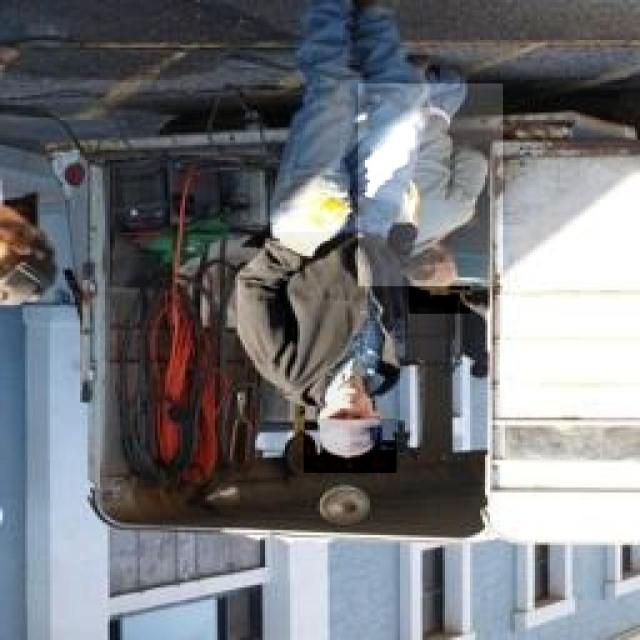Helmet: (358, 84, 504, 286), (256, 232, 408, 419), (304, 380, 396, 473), (398, 240, 470, 314)
